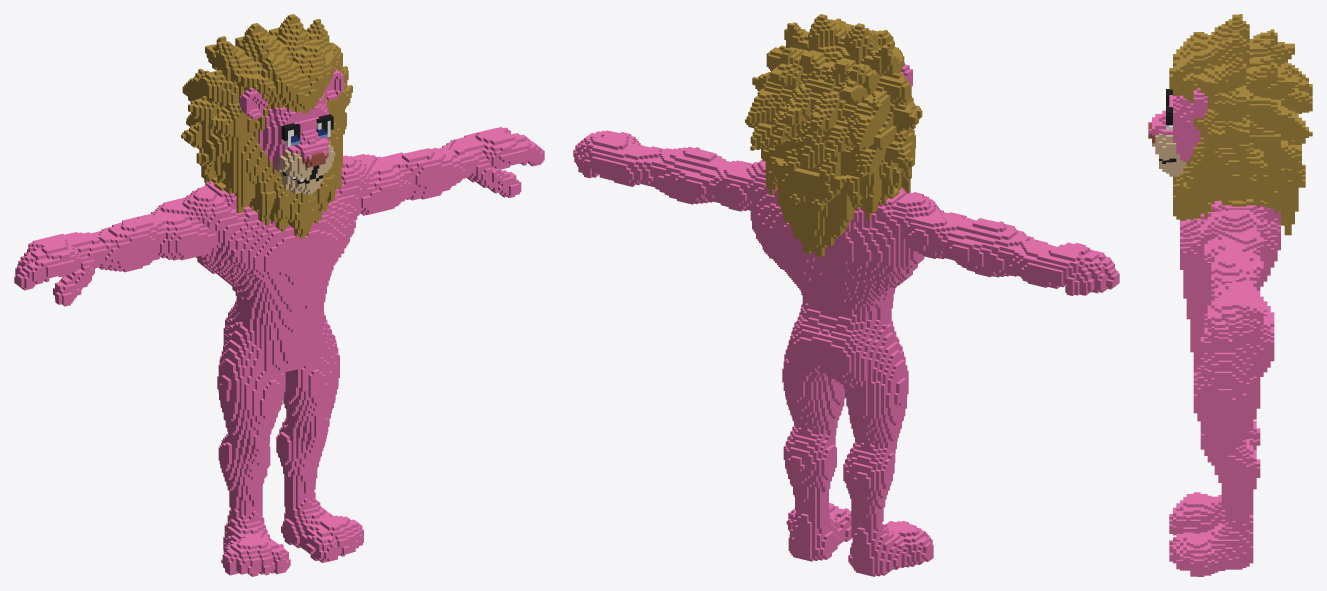
3 views of the same model, side by side, from view 1: azimuth 30°, elevation 25°; view 2: azimuth 150°, elevation 25°; view 3: azimuth 270°, elevation 25° (orthographic). The views are drawn at different scales.
Visible parts, largest first — view 1: smirk; view 2: smirk; view 3: smirk.
Boxes of the visible parts, x1=… form: smirk: x1=14, y1=14, x2=544, y2=576; smirk: x1=573, y1=14, x2=1119, y2=576; smirk: x1=1148, y1=14, x2=1312, y2=576.
Size of the model in its own units: 17.2 by 16.5 by 4.7.
4 materials, 4 textured.
